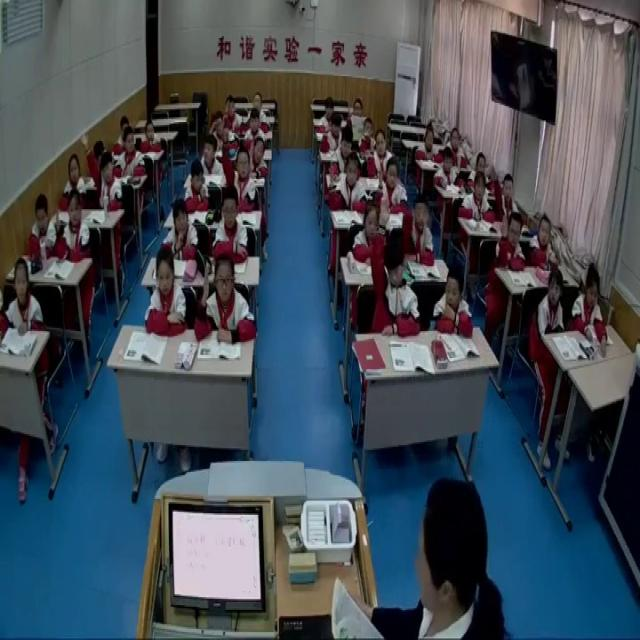distracted: (186, 160, 213, 212), (198, 137, 226, 184)
focused: (146, 242, 190, 334), (213, 182, 252, 266), (6, 254, 44, 334), (433, 270, 475, 338), (572, 271, 610, 344), (25, 191, 58, 266), (535, 264, 568, 338), (330, 151, 368, 215), (165, 201, 200, 263), (406, 198, 437, 266), (62, 152, 92, 211), (462, 167, 493, 223), (529, 214, 560, 270), (356, 204, 382, 263), (116, 127, 146, 176), (371, 128, 396, 182), (140, 114, 168, 159), (330, 127, 354, 177), (250, 132, 272, 183), (242, 105, 266, 151), (321, 110, 344, 157), (434, 146, 458, 190), (414, 122, 440, 161), (223, 94, 246, 134), (444, 128, 467, 168), (210, 110, 232, 151), (468, 149, 490, 190), (249, 90, 271, 128), (348, 98, 368, 134), (360, 119, 375, 149)
raising_hand: (370, 194, 420, 337), (195, 258, 255, 351), (78, 127, 122, 208), (52, 190, 96, 264), (373, 158, 411, 214), (491, 162, 523, 228), (497, 207, 524, 269)
